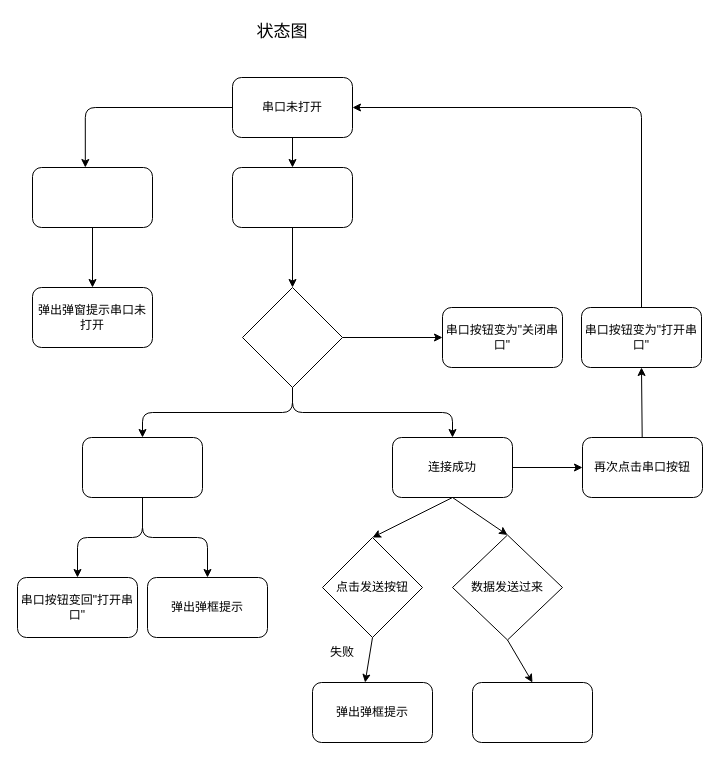
The diagram is 720 pixels wide and 760 high, and some of its shapes have lost their labels. Each missing label, with the centre of its shape:
"参数配置" goes at (292,197).
"未连接成功" goes at (142,467).
"点击打开按钮" goes at (292,337).
"直接点击发送按钮" goes at (92,197).
"读取数据刷新到接收数据界面上" goes at (532,712).
